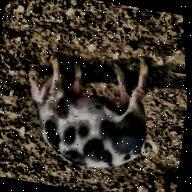boar: (13, 38, 176, 179), (135, 171, 179, 192), (180, 58, 186, 83)
